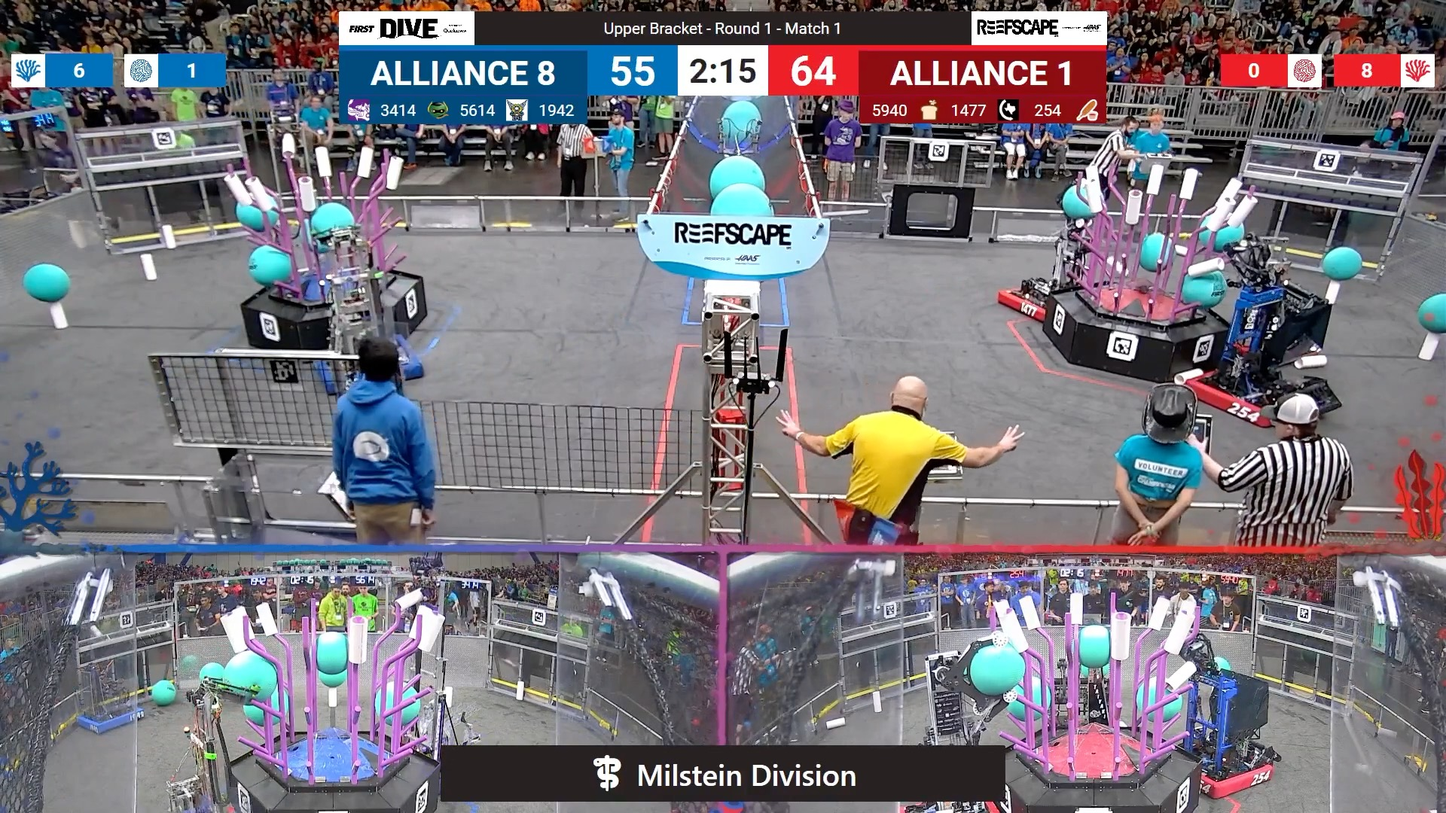bumpers: (1176, 371, 1333, 429), (303, 341, 432, 390), (1173, 745, 1274, 798), (996, 276, 1057, 321), (78, 706, 152, 732)
